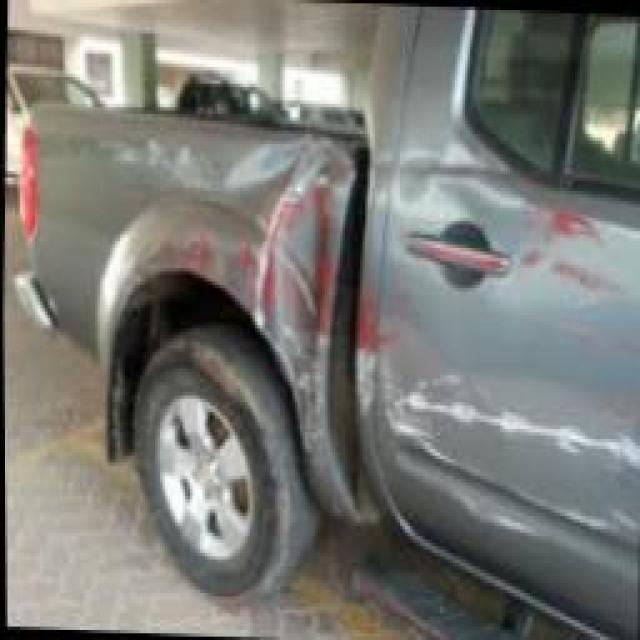rapairable: (378, 402, 623, 516), (413, 208, 618, 298), (252, 174, 348, 343), (353, 303, 424, 381), (161, 228, 261, 268), (288, 366, 318, 493)
